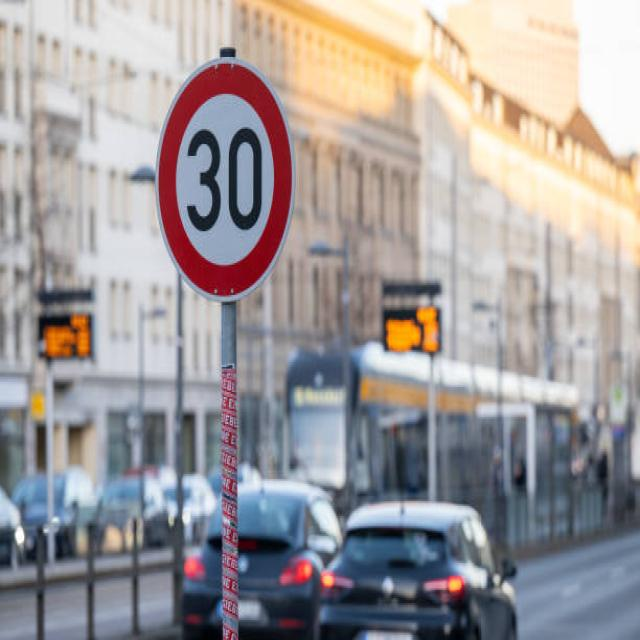Speed limit 30: (154, 52, 297, 305)
